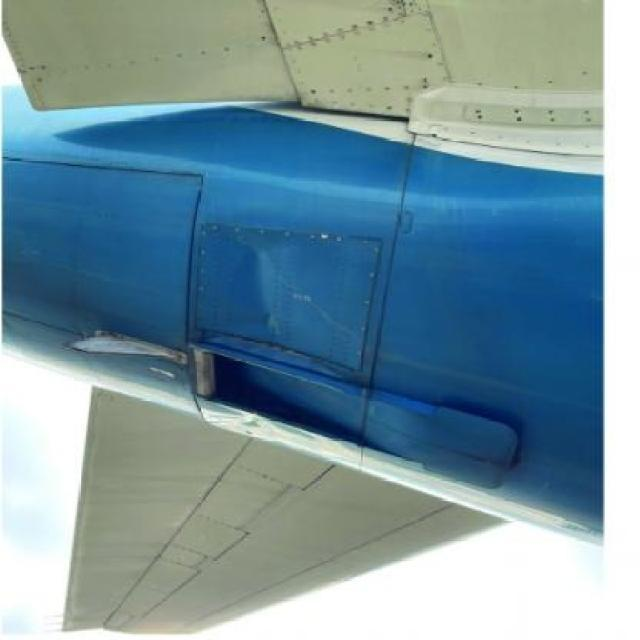dent: (207, 233, 298, 335)
